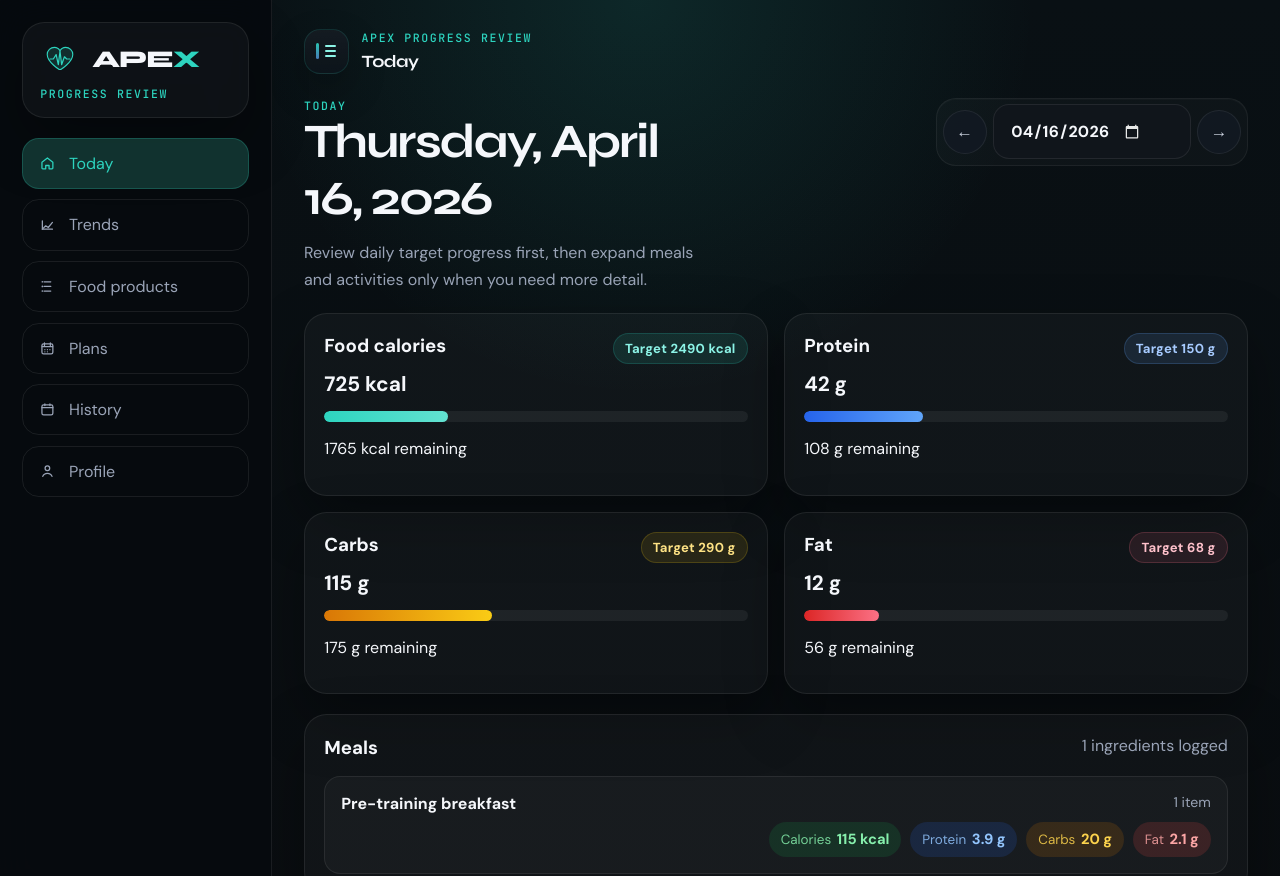
Test: App › renders history nutrition chips and trend metric toggles
The width and height of the screenshot is (1280, 876).
Click the button "History": x=136, y=410 [22, 384, 249, 435]
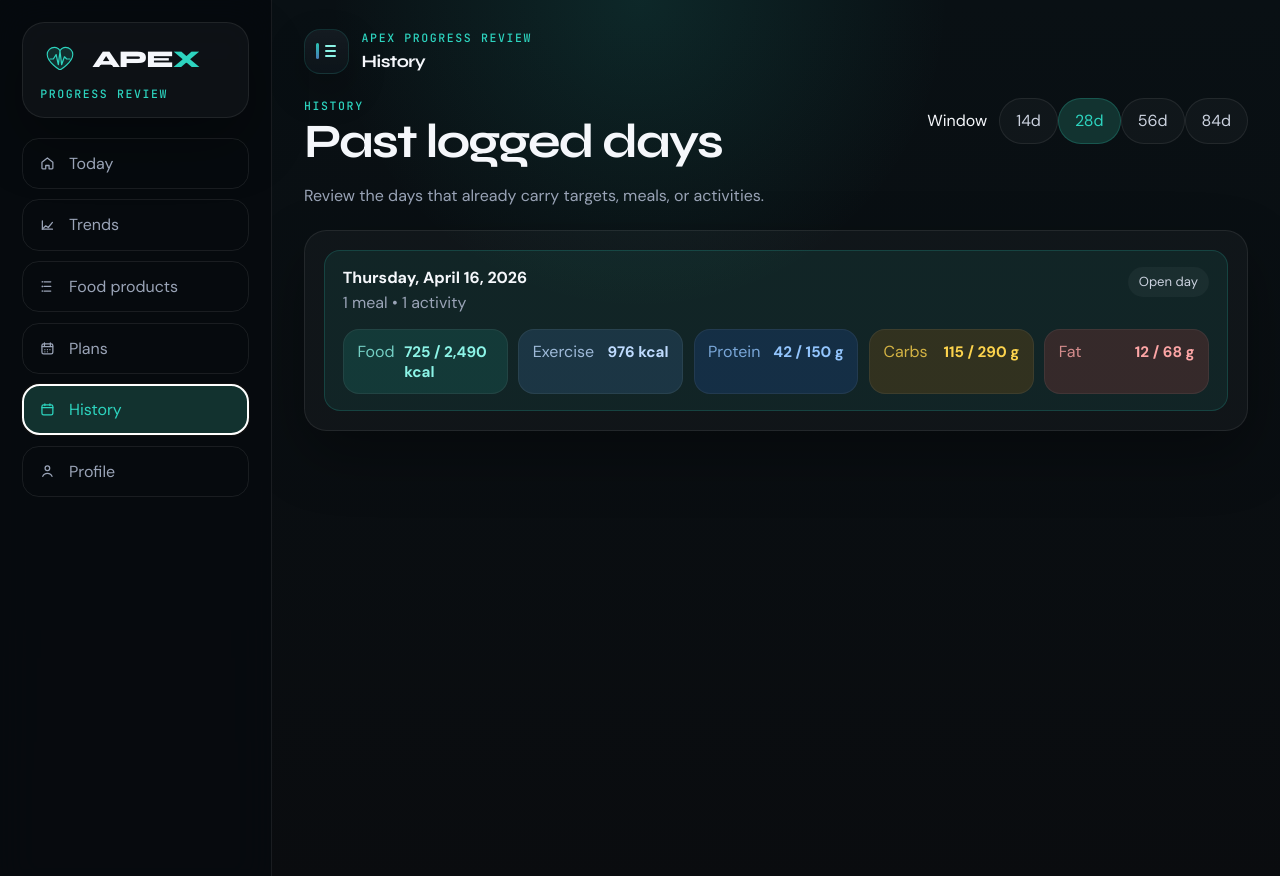
Check: the text "725 / 2,490 kcal" is shown, box [404, 342, 493, 382]
Check: the text "42 / 150 g" is shown, box [773, 342, 844, 362]
Check: the text "115 / 290 g" is shown, box [944, 342, 1019, 362]
Click the button "Trends": x=136, y=225 [22, 199, 249, 251]
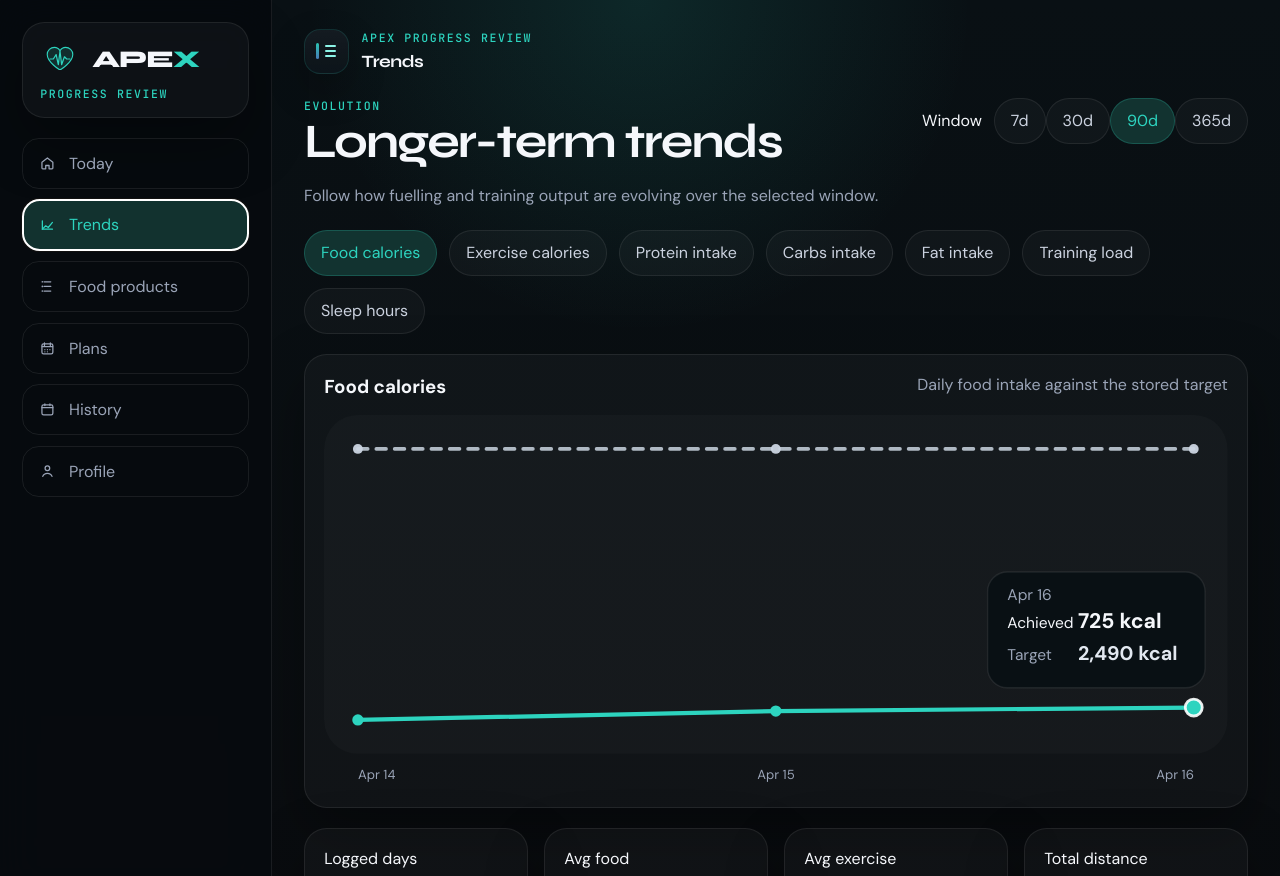
Check: the button "Carbs intake" is shown, box [766, 230, 893, 276]
Check: the button "Fat intake" is shown, box [905, 230, 1010, 276]
Check: the button "Sleep hours" is shown
Click the button "Sleep hours": x=365, y=311 [304, 288, 425, 334]
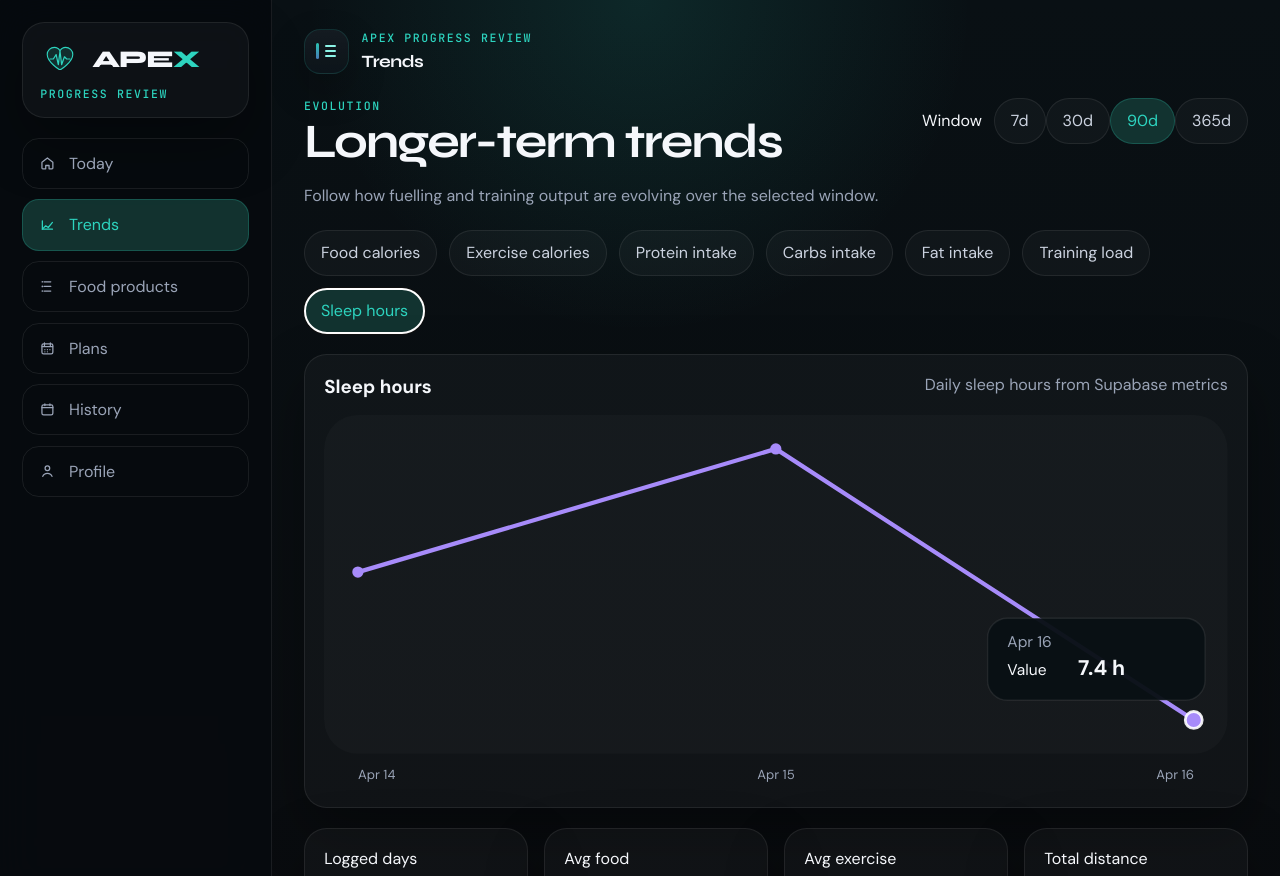
Check: the text "7.4 h" is shown, box [1078, 654, 1125, 682]
Check: the heading "Sleep hours" is shown, box [324, 374, 432, 399]
